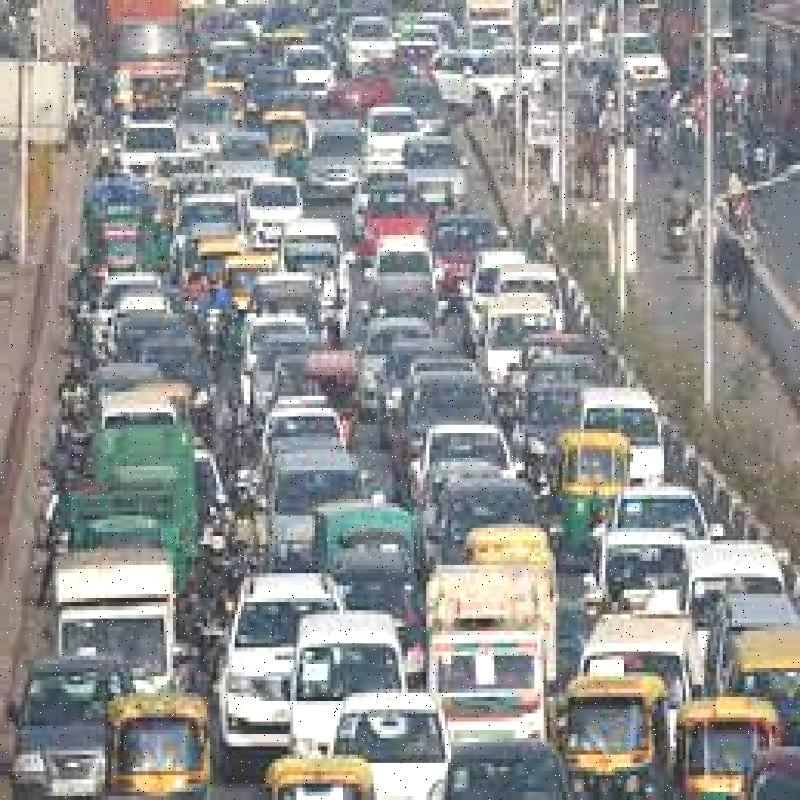car: (34, 546, 176, 694), (289, 593, 406, 771), (234, 567, 339, 747), (577, 598, 688, 716), (668, 536, 782, 649), (429, 631, 540, 746), (565, 372, 667, 493), (262, 447, 360, 570), (333, 691, 442, 800), (594, 523, 692, 634), (601, 476, 703, 571), (486, 289, 560, 400)
